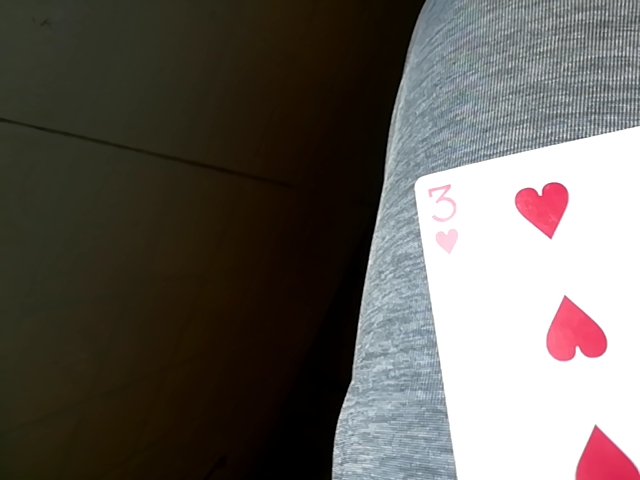hx 3: (411, 91, 638, 477)
